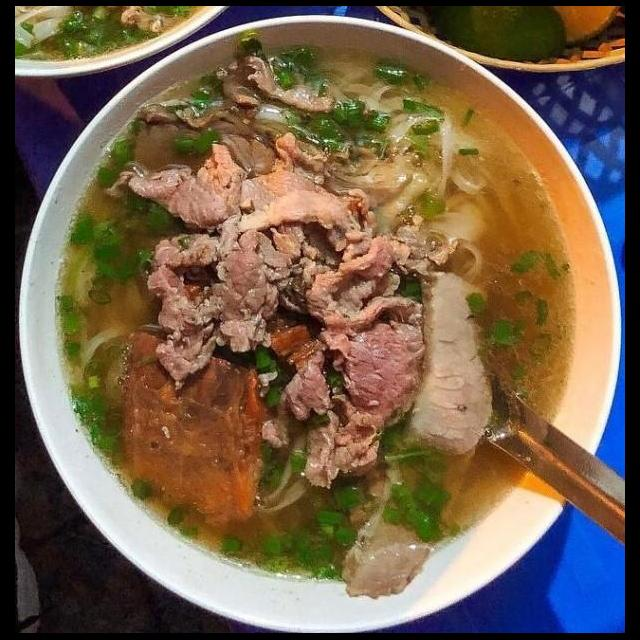banh pho: (316, 64, 505, 292)
pho bo: (28, 43, 618, 618)
thit bo: (250, 289, 439, 496), (139, 212, 315, 398), (94, 95, 283, 236), (336, 430, 480, 608), (395, 258, 498, 462), (221, 125, 382, 254), (301, 224, 430, 348), (217, 52, 340, 120)
